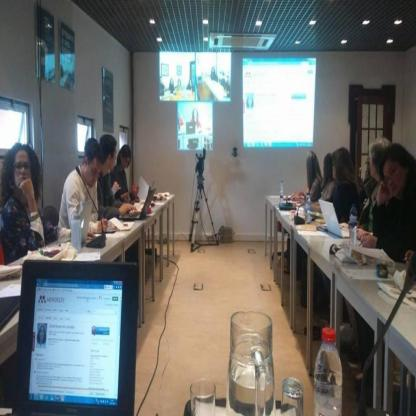board: (9, 249, 134, 416), (314, 325, 342, 416), (45, 200, 92, 249), (318, 202, 351, 239), (121, 191, 158, 221), (350, 201, 358, 244), (304, 194, 313, 224), (279, 178, 284, 200)
